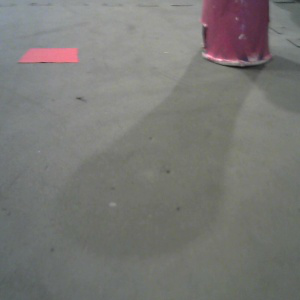right: (200, 1, 271, 67)
